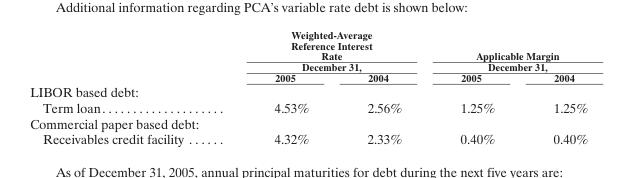table: (29, 28, 587, 146)
table column: (29, 28, 228, 146), (228, 28, 337, 146), (337, 28, 430, 146), (430, 28, 523, 146), (523, 28, 587, 146)
table column header: (29, 28, 587, 83)
table projected row header: (29, 83, 587, 99), (29, 115, 587, 130)
table row: (29, 28, 587, 71), (29, 83, 587, 99), (29, 99, 587, 115), (29, 130, 587, 146), (29, 115, 587, 130), (29, 71, 587, 83)
table spanning cell: (228, 28, 430, 71), (430, 28, 587, 71)
